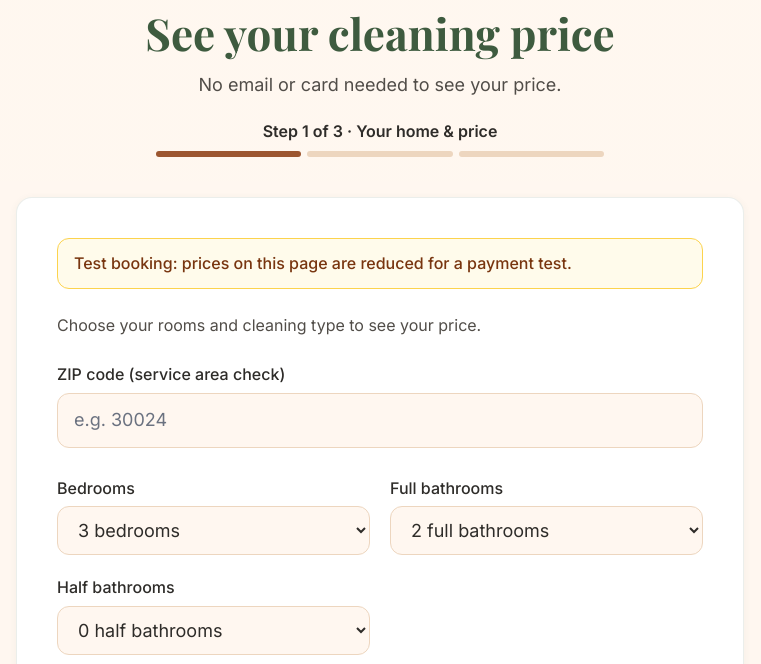
Scenario: quote: price summary under the ZIP (ChatGPT #3) › shows the per-visit total and $0 due today right under the ZIP
In the field labelled "ZIP code (service area check)": (380, 420) top-left (57, 393), bottom-right (703, 448), type "30024"
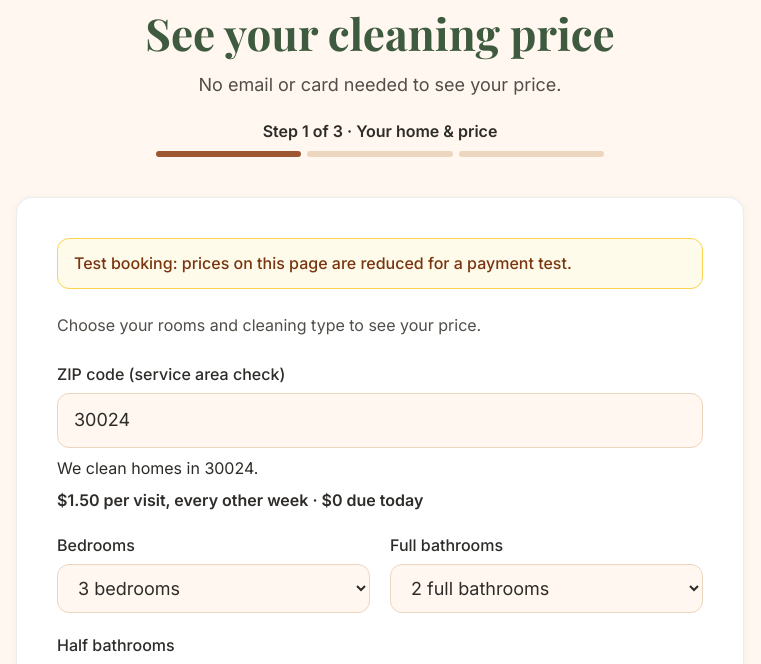
Now the text "$1.50 per visit, every other week · $0 due today" is shown, box top-left (57, 490), bottom-right (423, 510)
